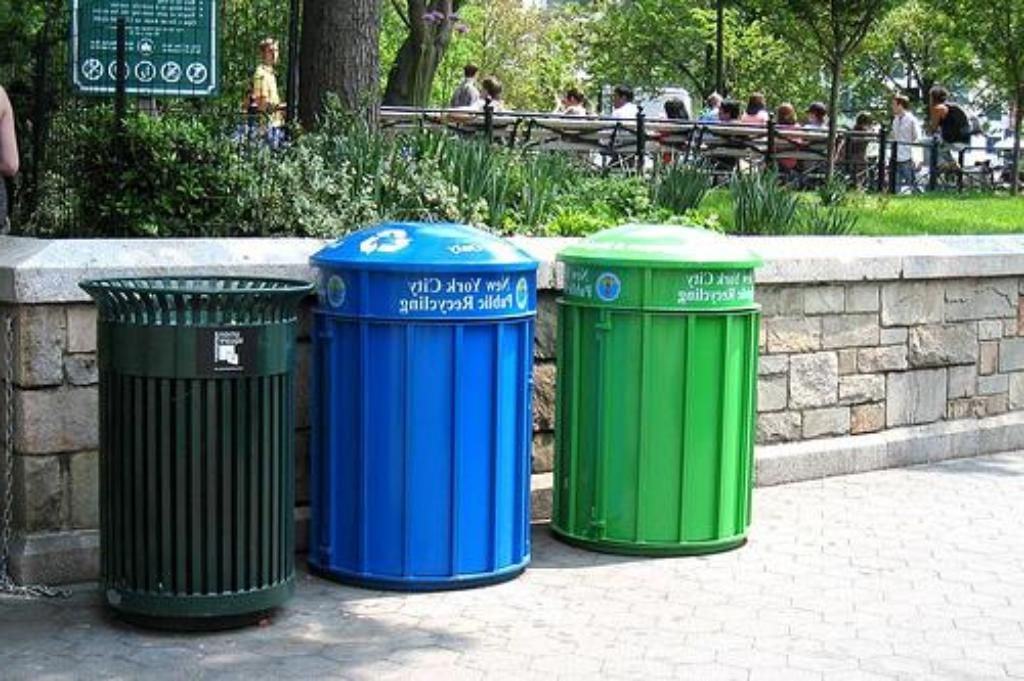dustbin: (301, 204, 543, 594), (71, 261, 312, 638), (548, 213, 774, 549)
